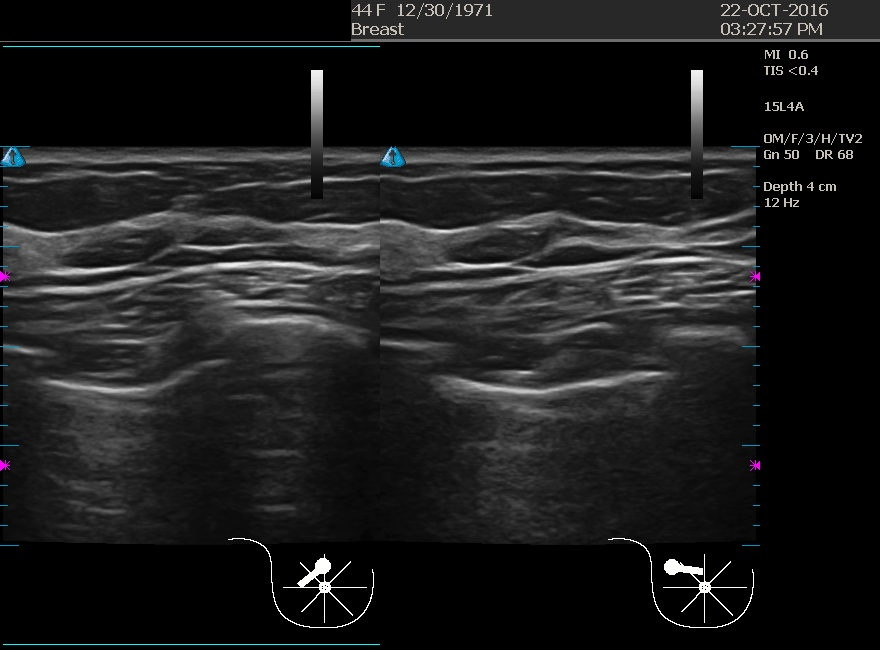BIRADS_3: (384, 170, 585, 370), (33, 174, 233, 374)
